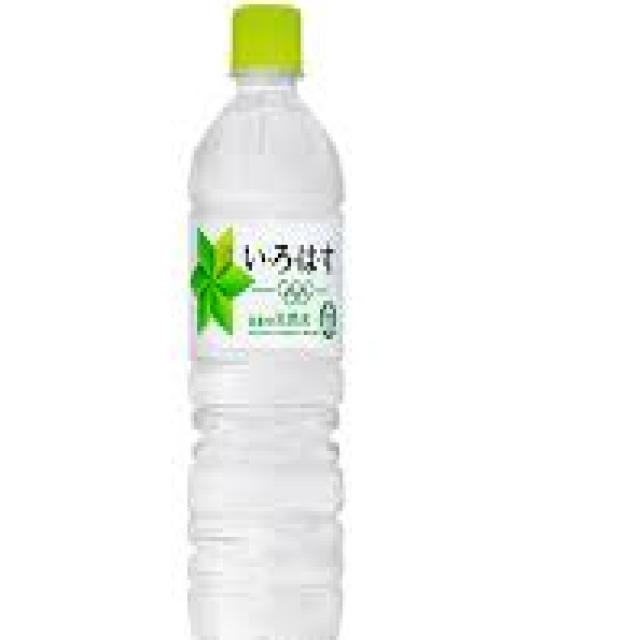organic: (168, 7, 391, 631)
